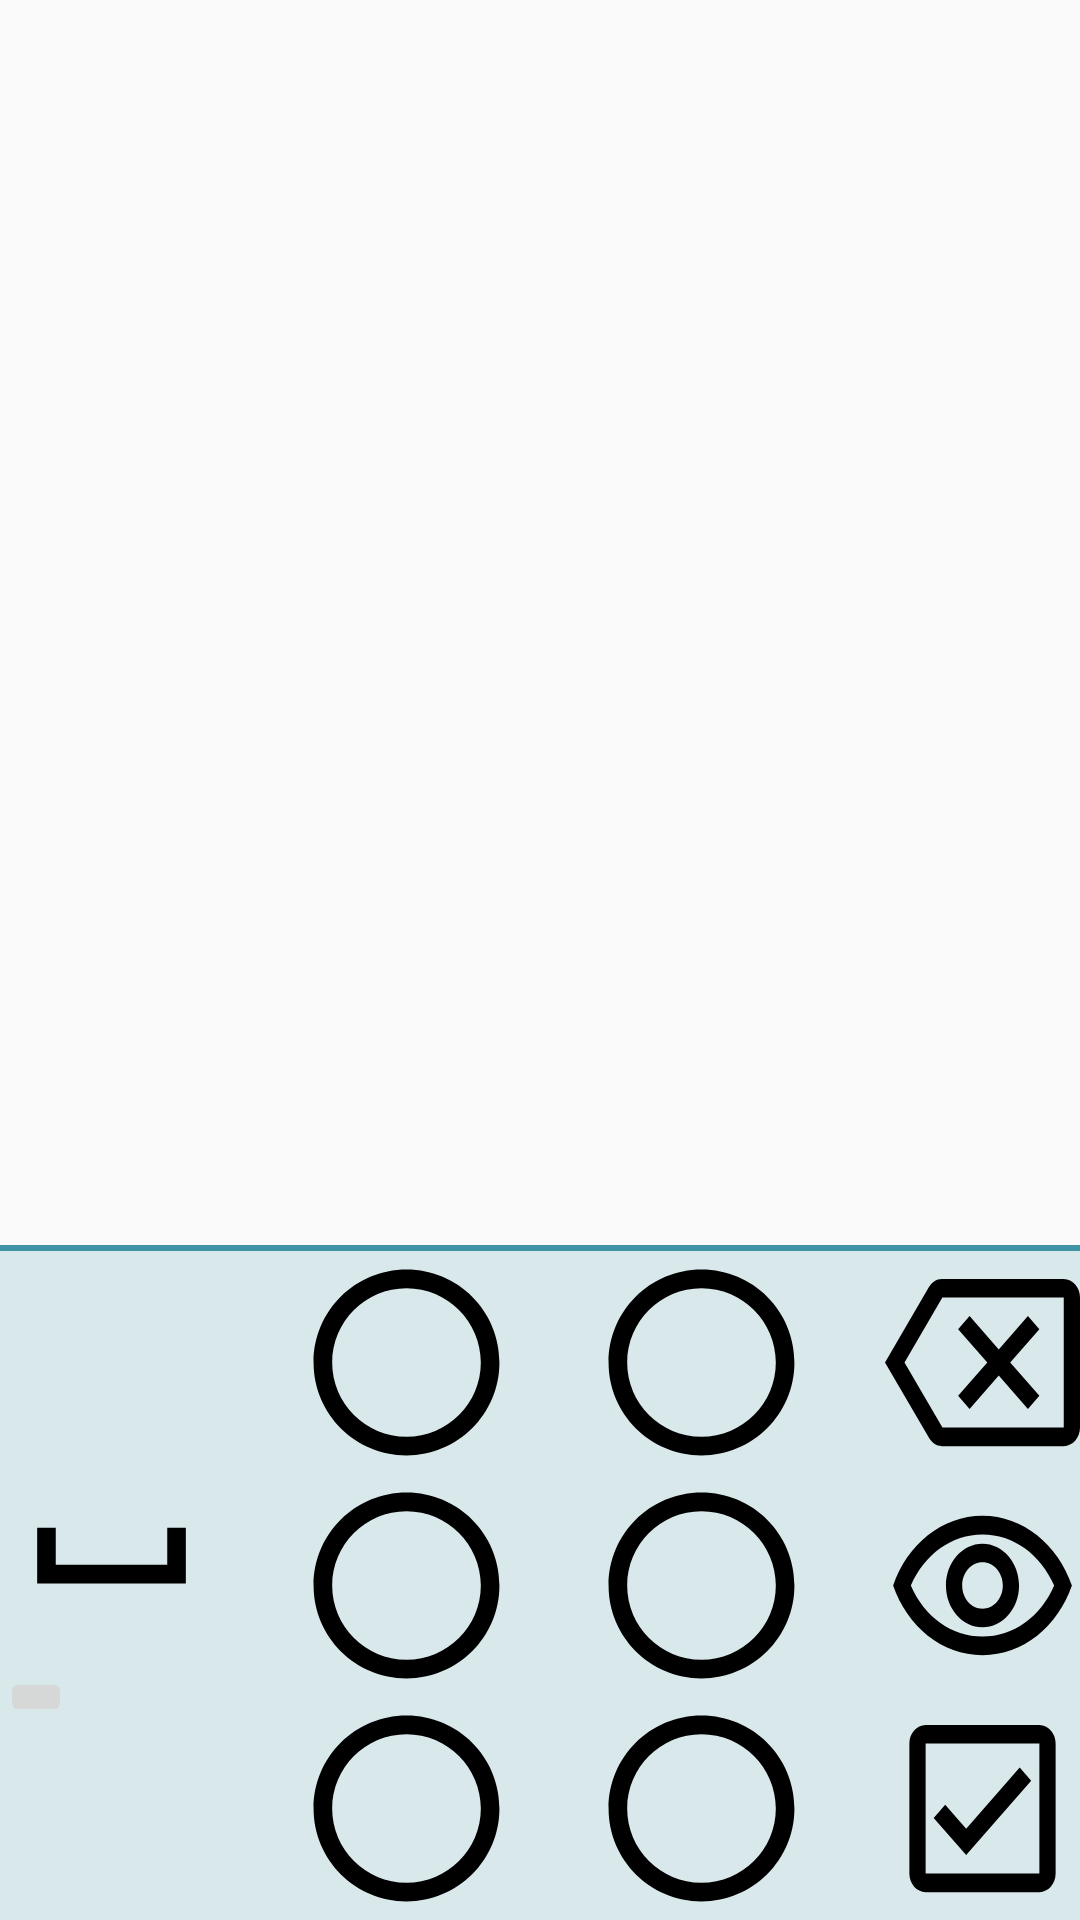

Locate icon controls on the screen. Image size 1080x1920, boxes as (x1, y1, x2, y2).
backspace: (885, 1279, 1080, 1447)
check box: (909, 1725, 1056, 1893)
space bar: (37, 1527, 186, 1584)
vacio: (313, 1269, 500, 1456), (608, 1269, 795, 1456), (313, 1492, 500, 1679), (608, 1492, 795, 1679), (313, 1715, 500, 1902), (608, 1715, 795, 1902)
